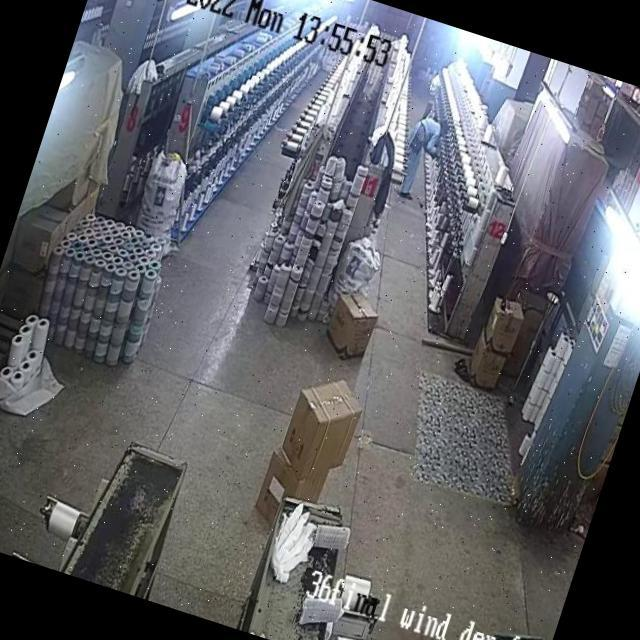person: (391, 106, 452, 211)
